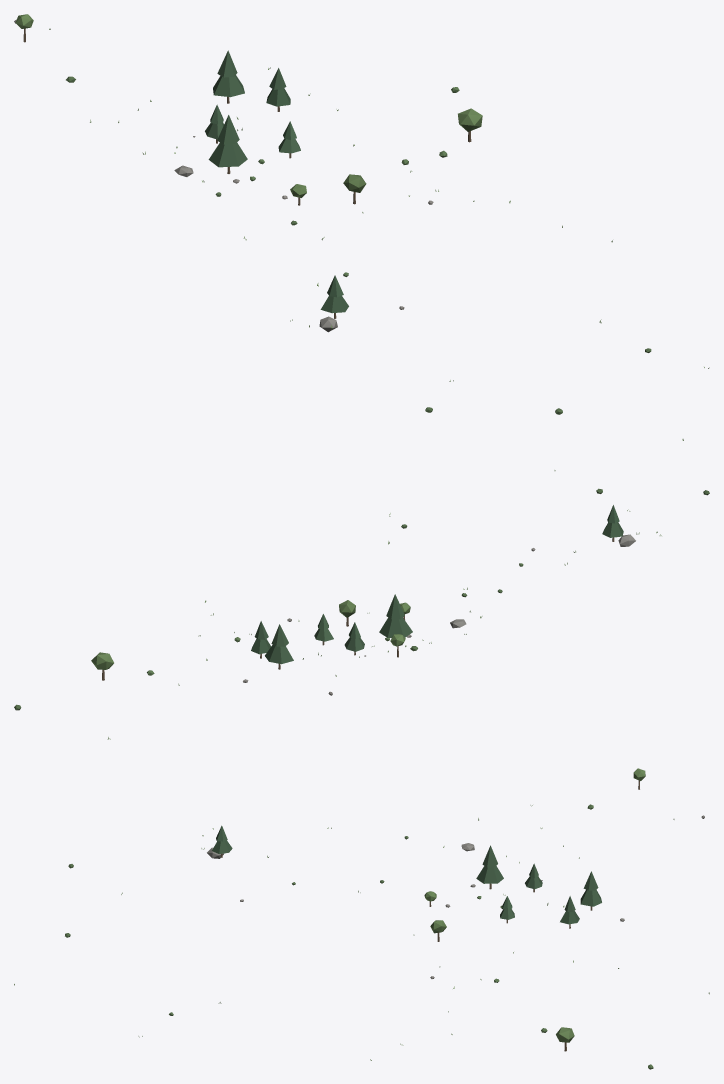
The model's file is arch_land_scatter_c21_19_lod1.glb.
3 views of the same model, one above another, from view 1: azimuth 30°, elevation 25°; view 2: azimuth 150°, elevation 25°; view 3: azimuth 270°, elevation 25° (orthographic). The views are drawn at different scales.
Visible parts, largest first — view 1: arch_land_scatter_c21_19_lod1; view 2: arch_land_scatter_c21_19_lod1; view 3: arch_land_scatter_c21_19_lod1.
Part boxes in pixels (box(x1,y1,x2,y2)): arch_land_scatter_c21_19_lod1: box(14, 14, 709, 440); arch_land_scatter_c21_19_lod1: box(14, 470, 709, 739); arch_land_scatter_c21_19_lod1: box(14, 768, 709, 1069).
Size of the model in its own units: 120 by 47.89 by 210.
